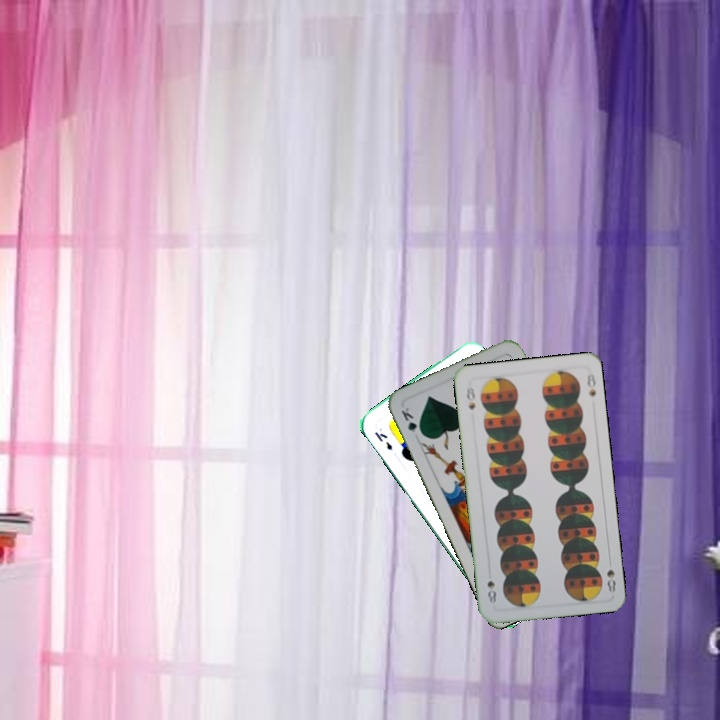EK: (371, 428, 395, 453)
GK: (397, 403, 426, 439)
S8: (603, 555, 618, 595), (462, 383, 478, 413)
